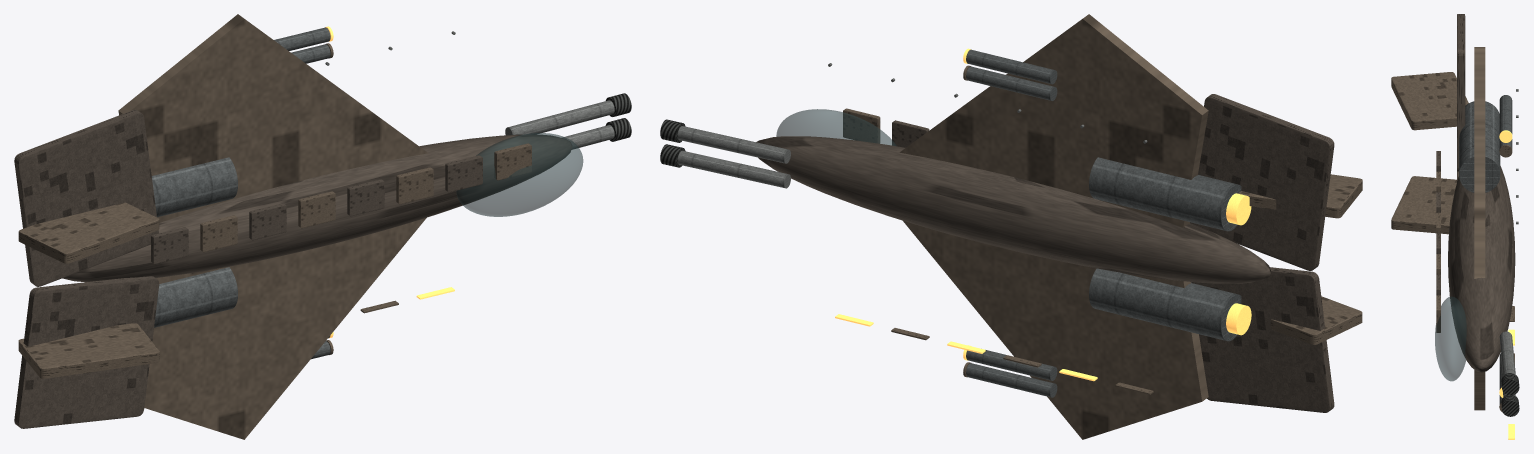
File: d-u23-dominion-interceptor-lod0.glb
3 views of the same model, side by side, from view 1: azimuth 30°, elevation 25°; view 2: azimuth 150°, elevation 25°; view 3: azimuth 270°, elevation 25° (orthographic). The views are drawn at different scales.
Parts seen in each view (by area): view 1: combat_main_wing, combat_fuselage, combat_tailplane_-1, combat_tailplane_1, combat_canopy, combat_fin_-1, combat_fin_1, combat_engine_1, combat_engine_0, combat_gun_barrel_1, airframe_panel_0, airframe_panel_1 (+8 smaller); view 2: combat_main_wing, combat_fuselage, combat_tailplane_1, combat_tailplane_-1, combat_engine_0, combat_engine_1, combat_canopy, combat_fin_-1, combat_gun_barrel_1, combat_gun_barrel_0, combat_fin_1, combat_-1_tube_1 (+6 smaller); view 3: combat_fuselage, combat_main_wing, combat_fin_1, combat_fin_-1, combat_engine_1, combat_canopy, combat_tailplane_1, combat_gun_barrel_1, combat_1_tube_2, combat_gun_muzzle_1, combat_gun_muzzle_0, airframe_panel_7 (+2 smaller).
Part boxes in pixels (left/top/right/bottom): combat_main_wing: left=118, top=14, right=428, bottom=439; combat_fuselage: left=62, top=134, right=571, bottom=282; combat_tailplane_-1: left=14, top=276, right=159, bottom=428; combat_tailplane_1: left=14, top=109, right=158, bottom=286; combat_canopy: left=456, top=133, right=583, bottom=216; combat_fin_-1: left=18, top=323, right=159, bottom=378; combat_fin_1: left=18, top=202, right=159, bottom=263; combat_engine_1: left=151, top=157, right=237, bottom=217; combat_engine_0: left=154, top=267, right=237, bottom=327; combat_gun_barrel_1: left=505, top=100, right=614, bottom=135; airframe_panel_0: left=151, top=227, right=188, bottom=264; airframe_panel_1: left=200, top=215, right=237, bottom=252; combat_main_wing: left=899, top=14, right=1208, bottom=439; combat_fuselage: left=756, top=136, right=1270, bottom=283; combat_tailplane_1: left=1190, top=94, right=1334, bottom=270; combat_tailplane_-1: left=1191, top=267, right=1334, bottom=412; combat_engine_0: left=1089, top=268, right=1241, bottom=341; combat_engine_1: left=1089, top=157, right=1241, bottom=231; combat_canopy: left=776, top=109, right=896, bottom=146; combat_fin_-1: left=1270, top=296, right=1362, bottom=344; combat_gun_barrel_1: left=677, top=126, right=790, bottom=163; combat_gun_barrel_0: left=677, top=150, right=790, bottom=188; combat_fin_1: left=1238, top=174, right=1362, bottom=218; combat_-1_tube_1: left=966, top=363, right=1057, bottom=397; combat_fuselage: left=1448, top=166, right=1515, bottom=372; combat_main_wing: left=1474, top=47, right=1485, bottom=410; combat_fin_1: left=1391, top=72, right=1468, bottom=130; combat_fin_-1: left=1391, top=176, right=1456, bottom=234; combat_engine_1: left=1459, top=101, right=1500, bottom=192; combat_canopy: left=1435, top=296, right=1466, bottom=381; combat_tailplane_1: left=1457, top=14, right=1465, bottom=171; combat_gun_barrel_1: left=1499, top=331, right=1515, bottom=375; combat_1_tube_2: left=1499, top=95, right=1512, bottom=133; combat_gun_muzzle_1: left=1501, top=373, right=1519, bottom=395; combat_gun_muzzle_0: left=1501, top=395, right=1519, bottom=416; airframe_panel_7: left=1436, top=295, right=1440, bottom=332.
Size of what is drawn, in the model's own units: 13.47 by 8.45 by 2.7.
Materials: 7 (7 with a texture image).
